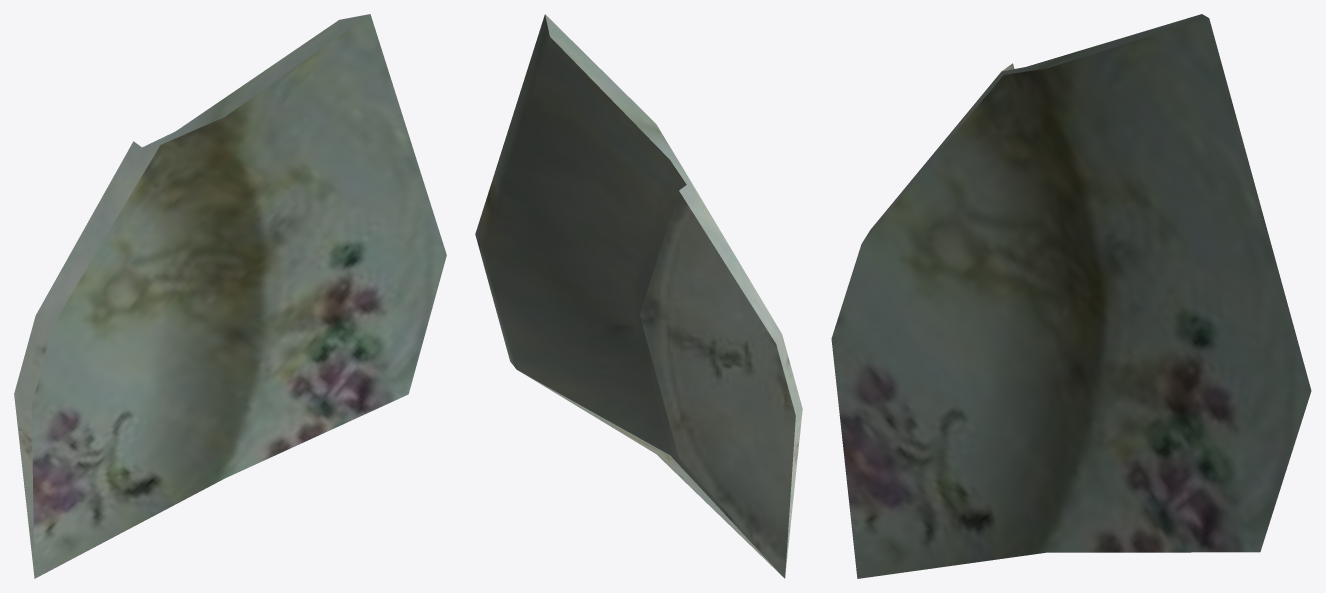
Rendered from prop_diningplate_brokenfloral4.glb.
3 views of the same model, side by side, from view 1: azimuth 30°, elevation 25°; view 2: azimuth 150°, elevation 25°; view 3: azimuth 330°, elevation 25° (orthographic). The views are drawn at different scales.
Bounding box in the file's own units: 5.07 × 6.41 × 1.01.
1 material, 1 textured.
